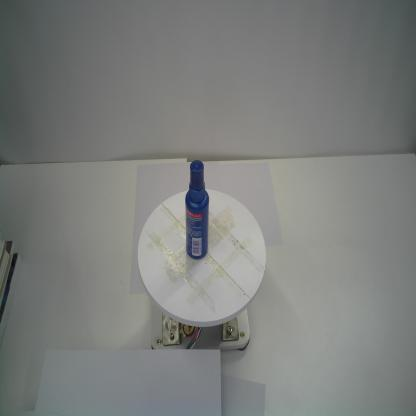Personal Hygiene: (185, 160, 209, 260)
